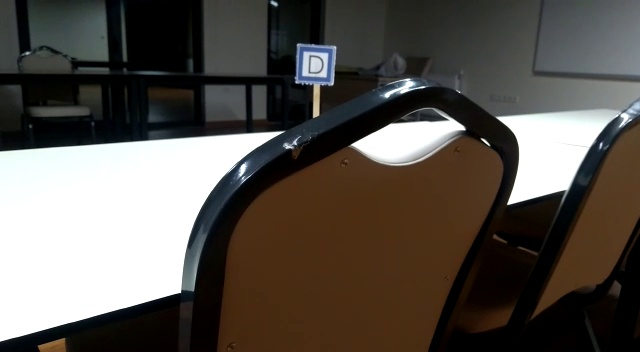durak: (295, 45, 338, 85)
